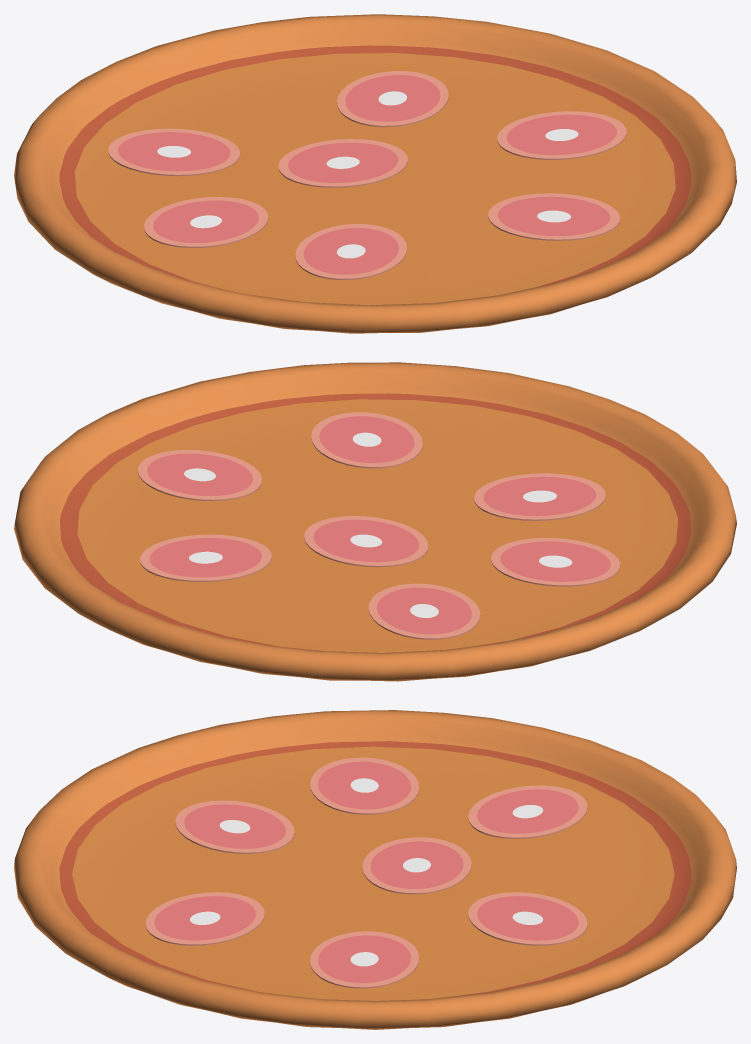
The model's file is pizza_z_szynka.gltf.
The picture shows the model from 3 angles, top to bottom: view 1: azimuth 30°, elevation 25°; view 2: azimuth 150°, elevation 25°; view 3: azimuth 270°, elevation 25°; orthographic projection.
Visible parts, largest first — view 1: Cylinder, Circle.002, Circle.001, Sphere.005, Sphere.001, Sphere.002; view 2: Cylinder, Circle.002, Circle.001, Sphere.005, Sphere.001, Sphere.002; view 3: Cylinder, Circle.002, Circle.001, Sphere.005, Sphere.001, Sphere.002.
Boxes of the visible parts, x1,y1,x2,y2 form: Cylinder: [14, 14, 736, 333]; Circle.002: [59, 45, 691, 304]; Circle.001: [75, 53, 675, 305]; Sphere.005: [108, 71, 619, 279]; Sphere.001: [144, 111, 626, 247]; Sphere.002: [278, 139, 407, 187]; Cylinder: [14, 362, 736, 681]; Circle.002: [60, 393, 690, 652]; Circle.001: [77, 399, 677, 652]; Sphere.005: [140, 412, 605, 639]; Sphere.001: [138, 450, 620, 586]; Sphere.002: [304, 516, 428, 567]; Cylinder: [14, 710, 736, 1029]; Circle.002: [59, 741, 691, 1000]; Circle.001: [72, 746, 674, 1000]; Sphere.005: [145, 785, 587, 945]; Sphere.001: [310, 757, 419, 988]; Sphere.002: [362, 837, 471, 894].
Bounding box in the file's own units: 1.44 × 0.0648 × 1.44.
5 materials, 5 textured.
